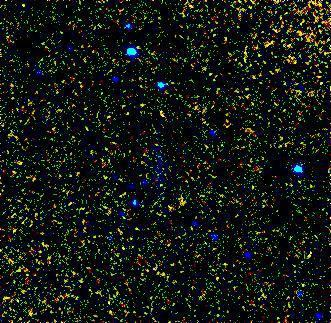star: (167, 184, 197, 214)
